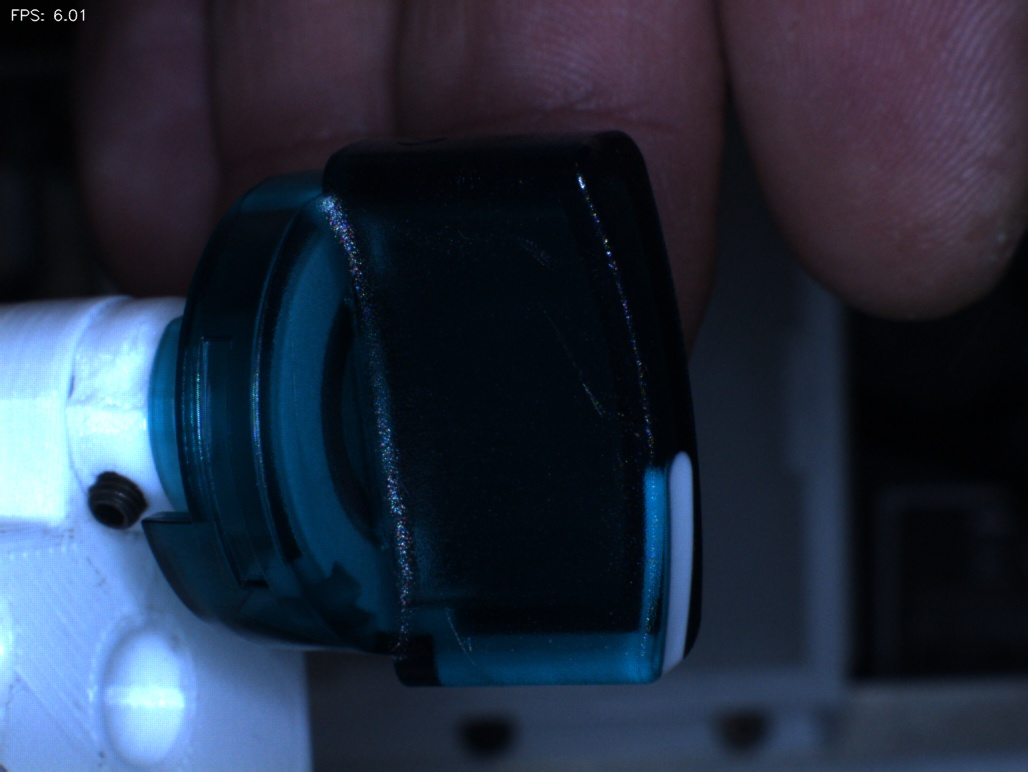Givrage: (534, 320, 624, 449), (458, 205, 570, 278)
